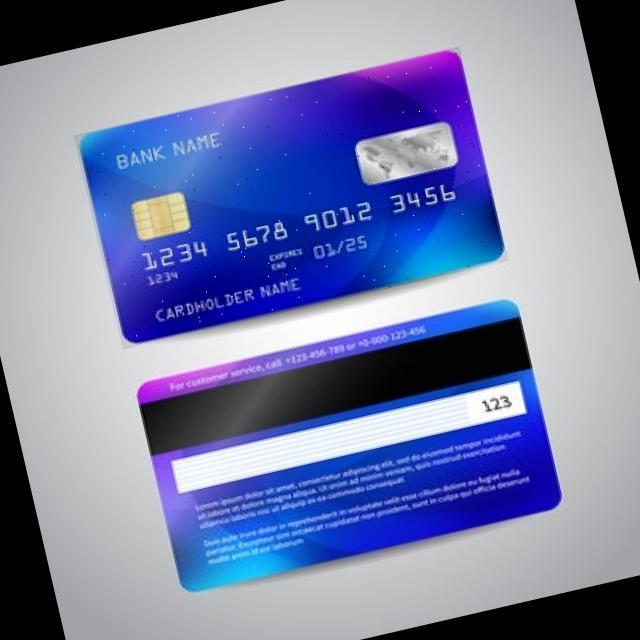payment_card: (73, 47, 507, 344), (134, 297, 563, 592)
